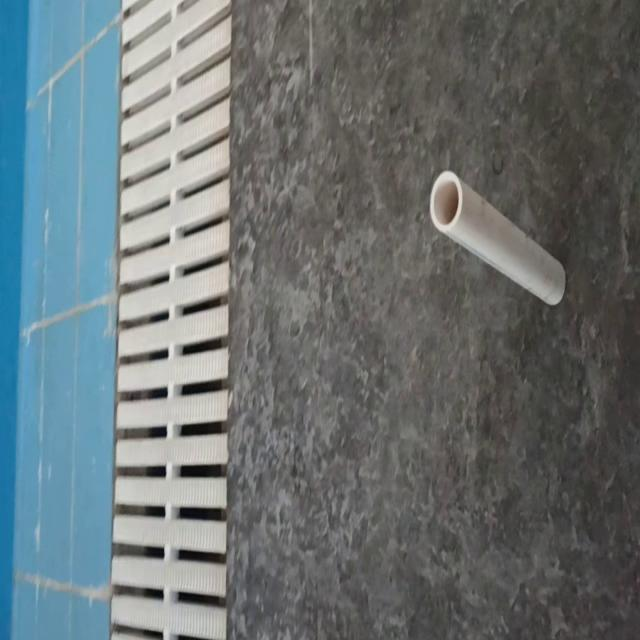Cube: (428, 167, 566, 308)
